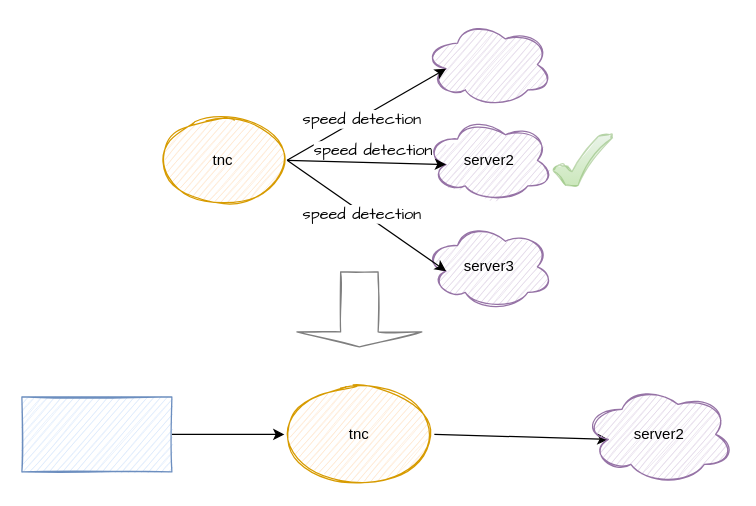
This 756x506 diagram has some shape labels left out. Each missing label, with the box of its shape:
client: (21, 396, 172, 472)
server1: (424, 21, 553, 107)
